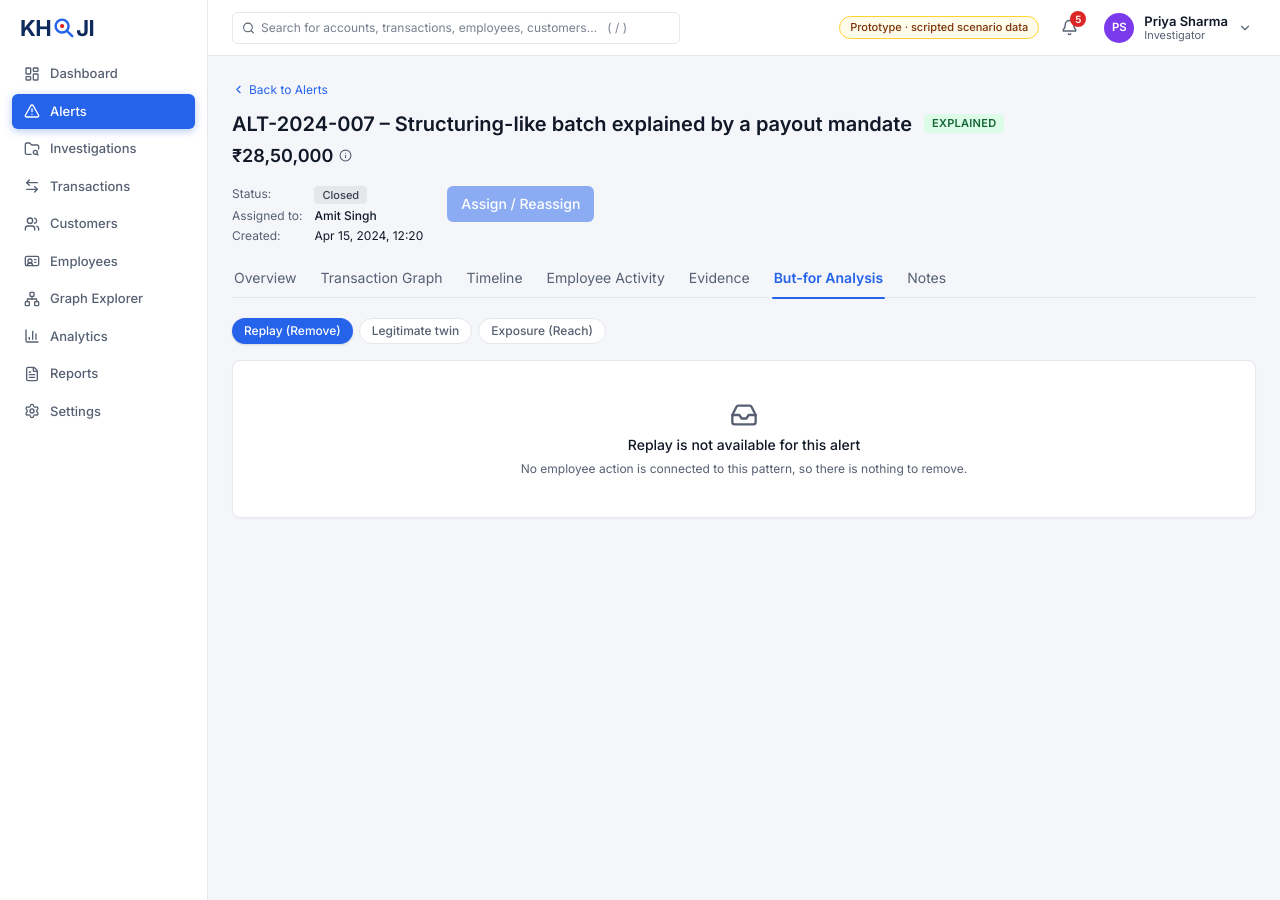
Twin panel UI › the payout twin alert shows its attack counterpart
The width and height of the screenshot is (1280, 900).
Click the tab "Legitimate twin".
click(416, 331)  # box [359,318,472,344]
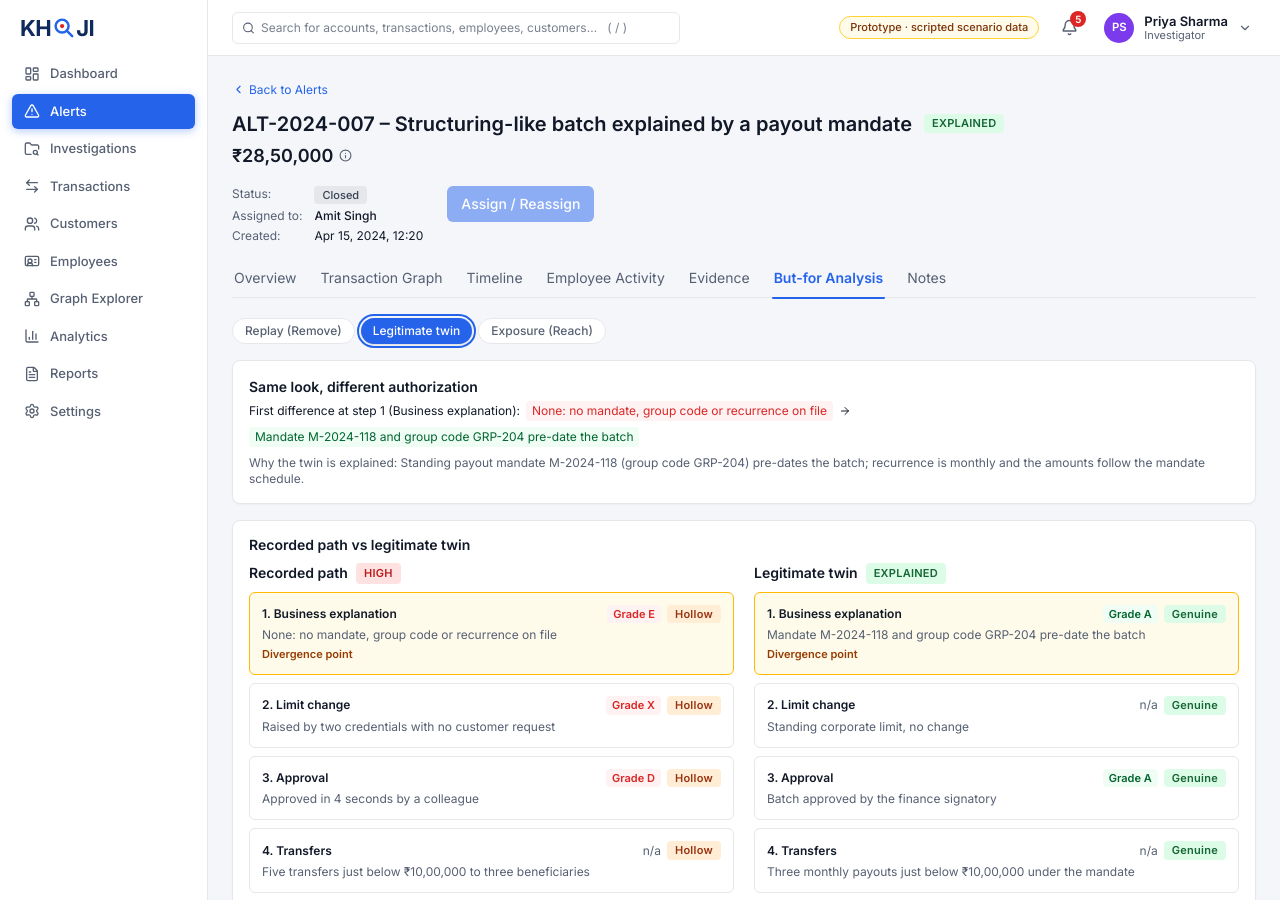
Expected: the element with test id "divergence" is shown, [249,401,851,447]
